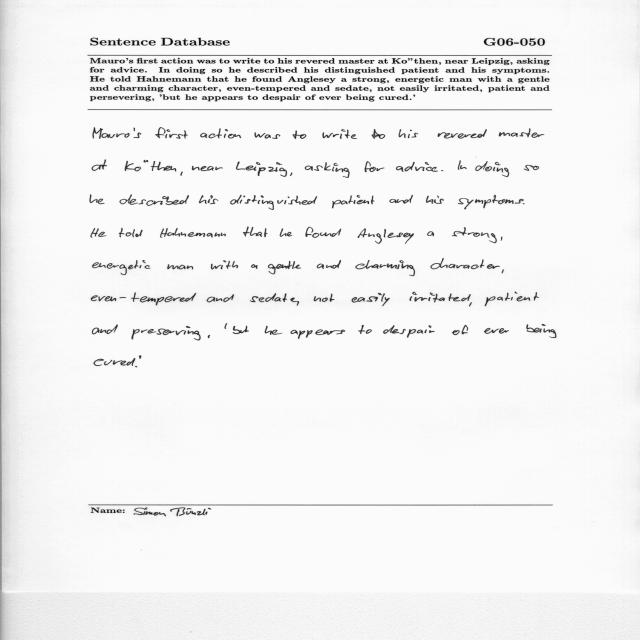word: (91, 293, 196, 306), (230, 195, 317, 210), (132, 326, 201, 340), (355, 260, 415, 276), (458, 195, 524, 209), (358, 228, 414, 244), (93, 260, 151, 275), (236, 161, 287, 177), (430, 259, 500, 270), (120, 195, 189, 206), (485, 292, 539, 306), (305, 162, 350, 178), (452, 227, 497, 243), (383, 325, 435, 338), (160, 228, 226, 238), (409, 292, 471, 302), (125, 160, 176, 172), (93, 127, 141, 139), (332, 195, 375, 208), (475, 161, 509, 177), (291, 329, 345, 339), (352, 293, 390, 306), (438, 129, 487, 139), (200, 128, 241, 139), (499, 128, 544, 138), (268, 261, 301, 274), (396, 162, 438, 172), (527, 324, 557, 338), (306, 227, 342, 238), (155, 128, 188, 139), (322, 129, 357, 139), (250, 294, 287, 303), (94, 358, 135, 366), (92, 325, 118, 335), (243, 227, 268, 237), (211, 261, 238, 270), (207, 294, 234, 303), (365, 161, 385, 172), (389, 195, 413, 204), (119, 228, 143, 237), (317, 260, 341, 269), (255, 132, 281, 139), (399, 129, 418, 138), (199, 195, 218, 204), (92, 160, 107, 171), (426, 195, 444, 204), (265, 326, 283, 335), (314, 294, 334, 302), (452, 325, 468, 335), (192, 166, 223, 171), (91, 228, 106, 238), (484, 328, 509, 334), (372, 129, 385, 139), (167, 265, 193, 270), (233, 326, 249, 334), (90, 195, 104, 204), (358, 325, 372, 334), (293, 130, 306, 139), (280, 228, 292, 237), (458, 160, 467, 170), (524, 165, 539, 171), (290, 297, 299, 306), (427, 232, 434, 237), (251, 264, 258, 269), (180, 171, 183, 176), (469, 302, 472, 307), (225, 324, 228, 329), (501, 237, 503, 241), (502, 270, 504, 274), (290, 173, 292, 176), (208, 335, 210, 338), (139, 356, 141, 359), (441, 171, 443, 172), (523, 203, 525, 204), (135, 366, 137, 367)
